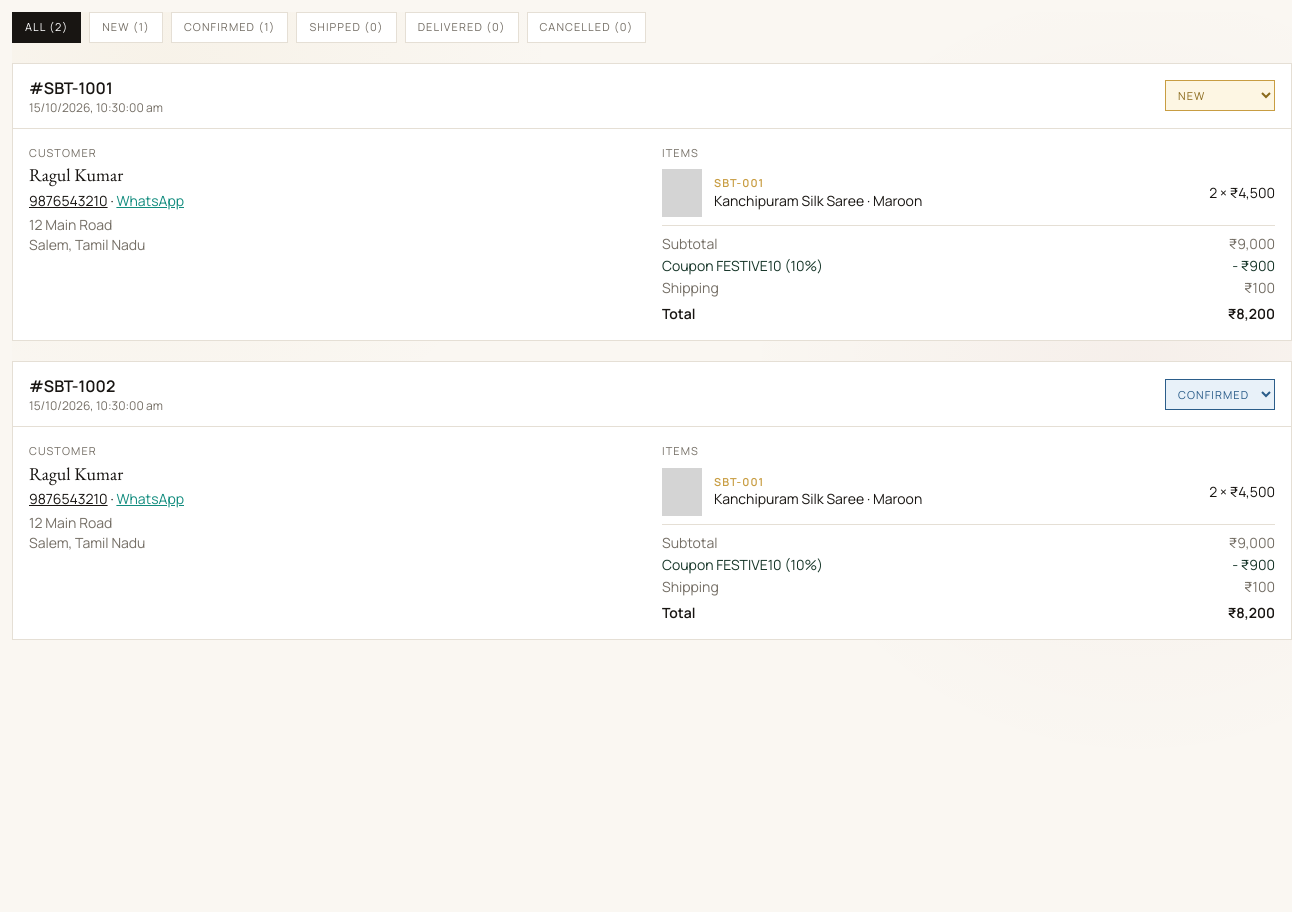
Scenario: AdminOrders › returns to the All filter and displays every order
Step 1. Click the button "confirmed (1)" → (230, 27), box [171,12,288,42]
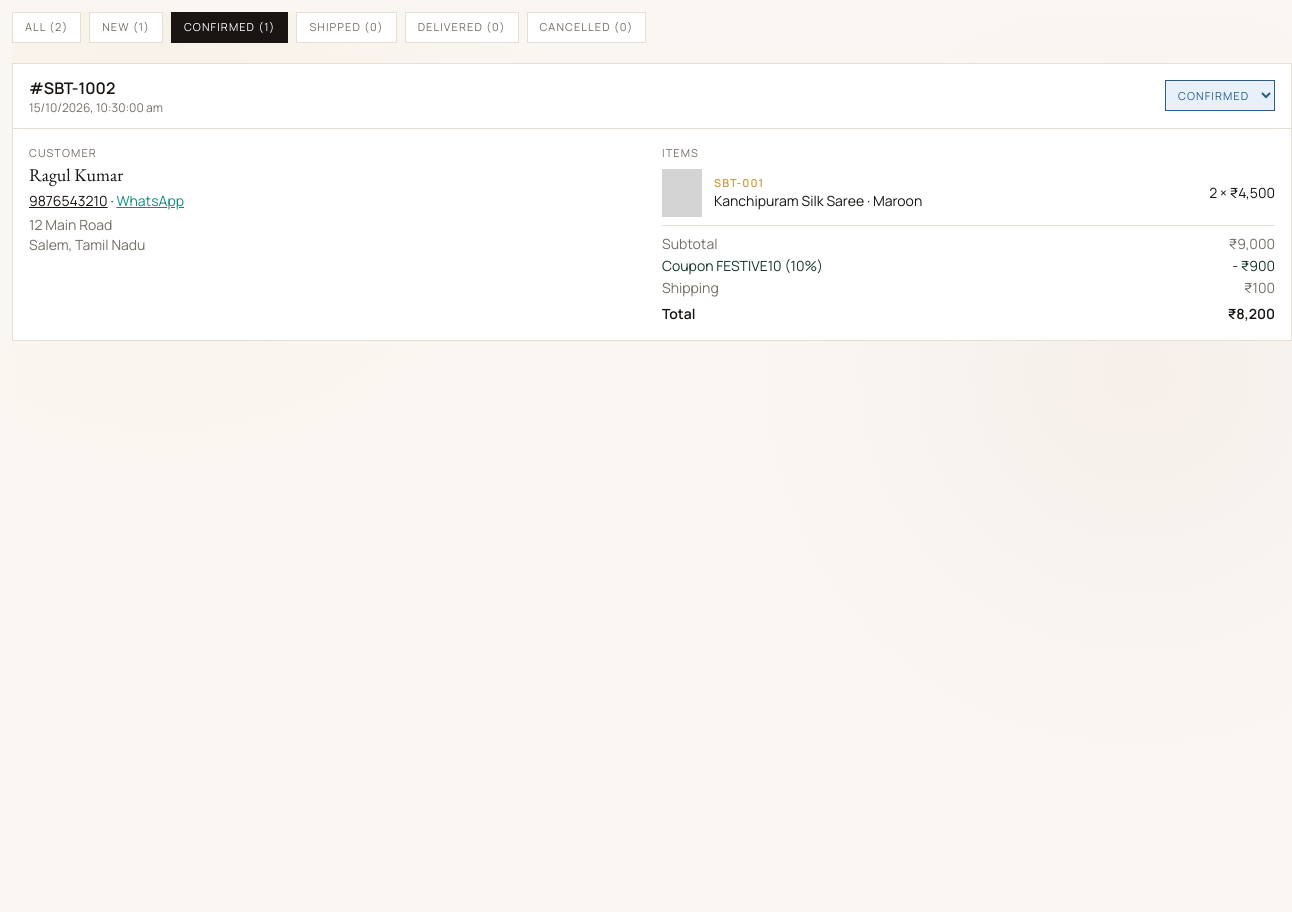
Result: the text "#SBT-1001" is gone
Step 2. Click the button "All (2)" → (47, 27), box [12,12,81,42]
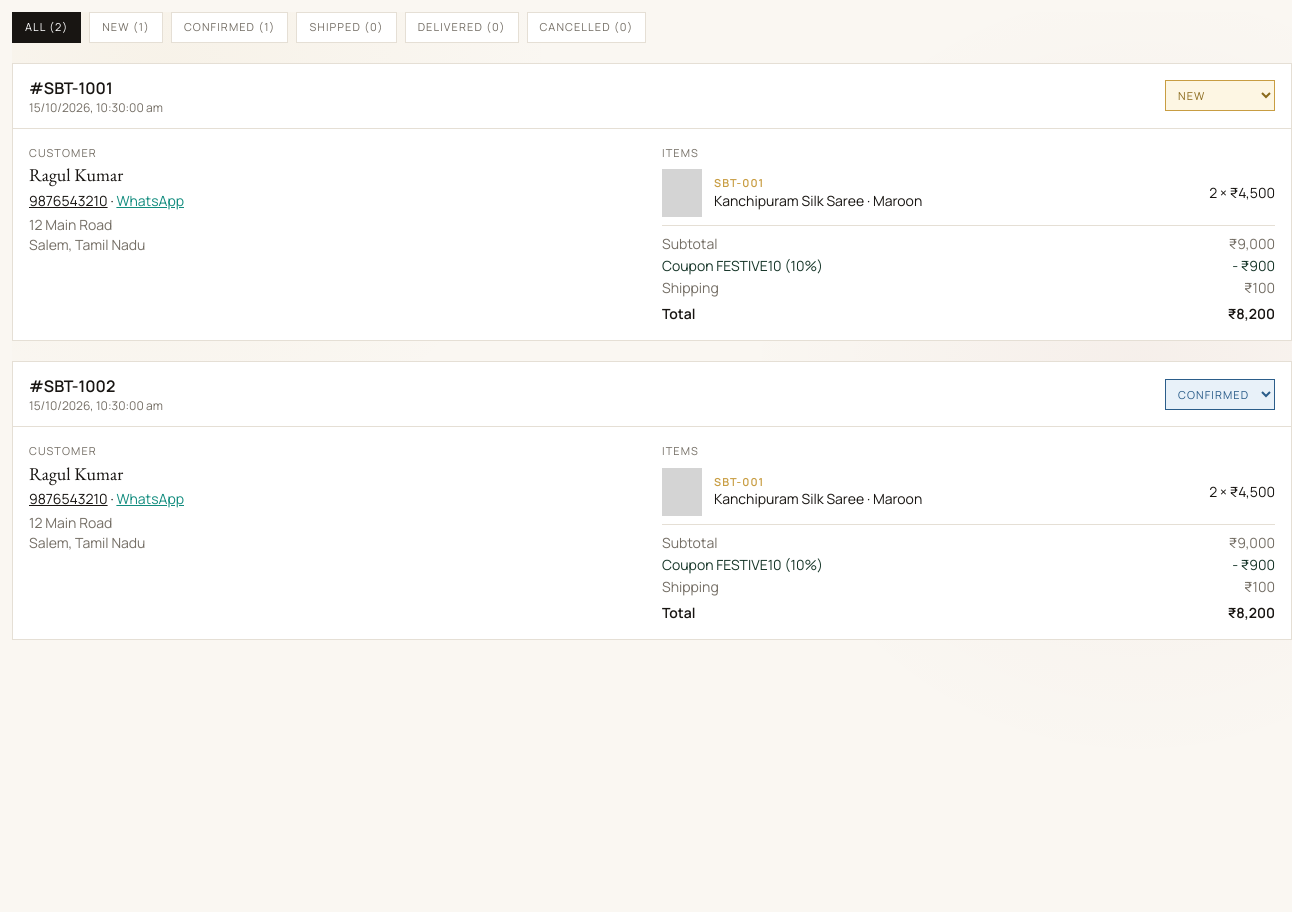
Expected: the text "#SBT-1002" is shown, [29,375,115,397]
Result: the text "#SBT-1001" is shown at [29,76,113,98]
